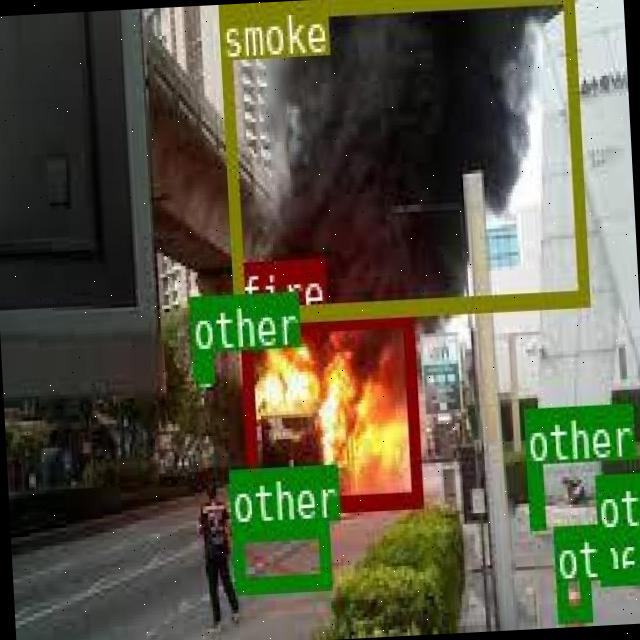fire: (240, 309, 421, 512)
smoke: (217, 0, 587, 319)
